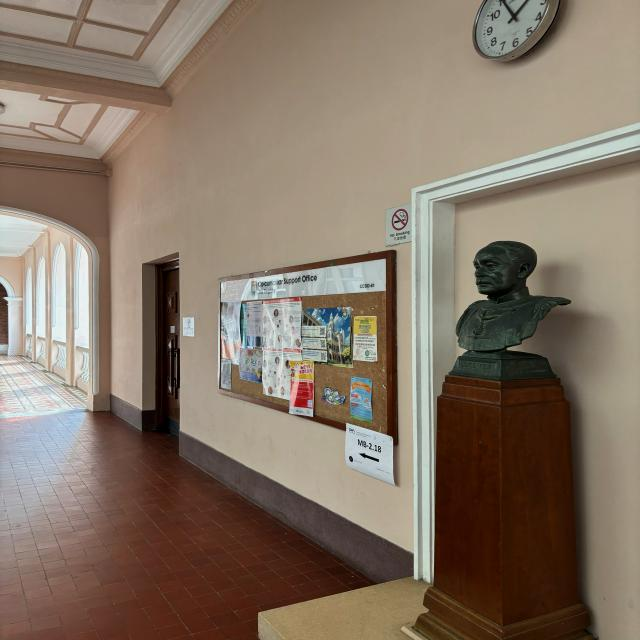loke_yew_statue: (439, 236, 576, 389)
loke_yew_statue_base: (404, 367, 597, 640)
